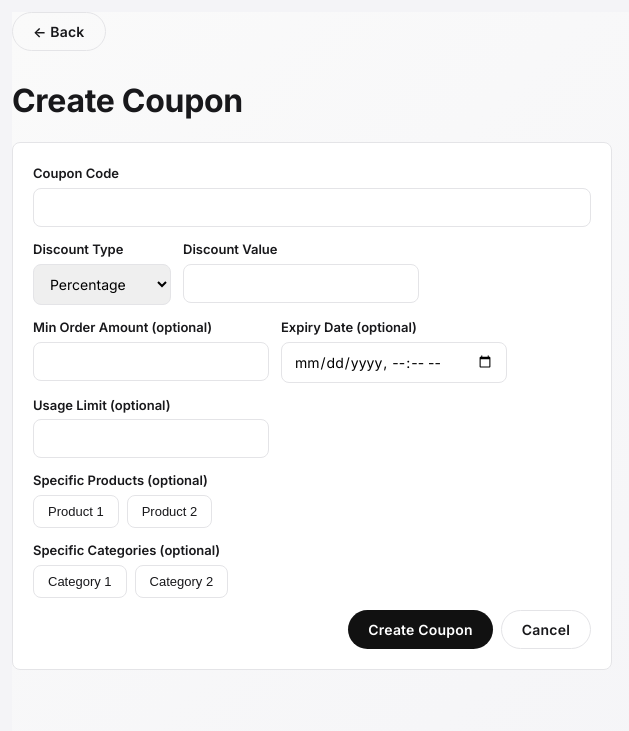
Test: AdminCouponForm › Create Mode › should show error when code is empty
Click the button "Create Coupon". click: [421, 630]
box: 348,610 -> 493,649
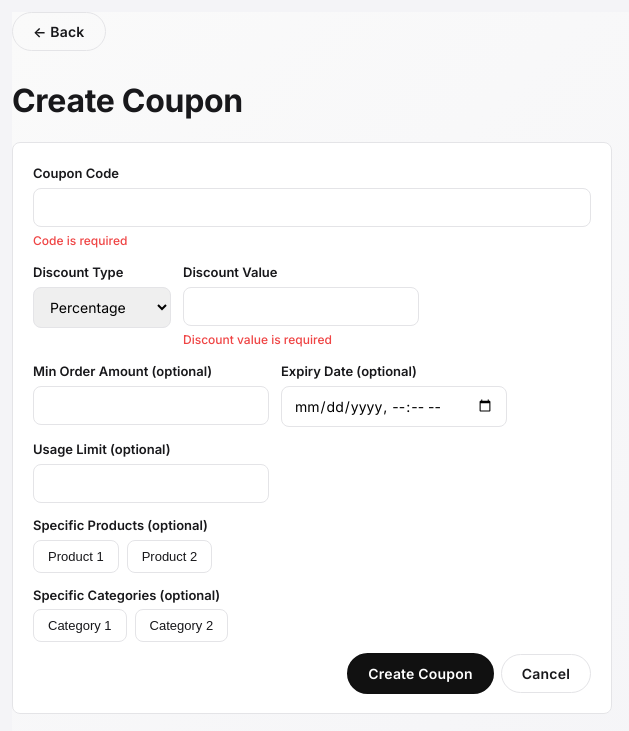
Expected: the text "Code is required" is shown, 33,233 -> 127,248
